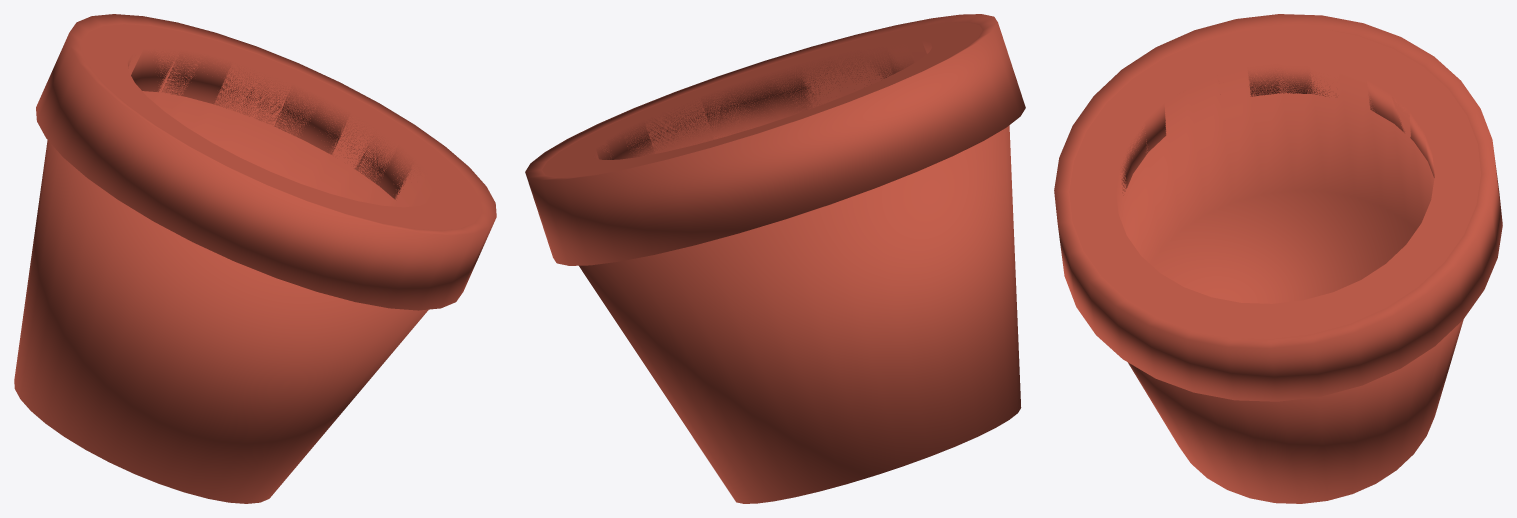
The model's file is mact pensamiento.fbx.
The picture shows the model from 3 angles, left to right: view 1: azimuth 30°, elevation 25°; view 2: azimuth 150°, elevation 25°; view 3: azimuth 270°, elevation 25°; orthographic projection. The views are drawn at different scales.
Visible parts, largest first — view 1: florpensamiento.009; view 2: florpensamiento.009; view 3: florpensamiento.009.
Part boxes in pixels (x1,y1,x2,y2): florpensamiento.009: (14, 14, 496, 503); florpensamiento.009: (525, 14, 1025, 503); florpensamiento.009: (1054, 14, 1502, 503).
Bounding box in the file's own units: 91.35 × 89.89 × 88.76.
